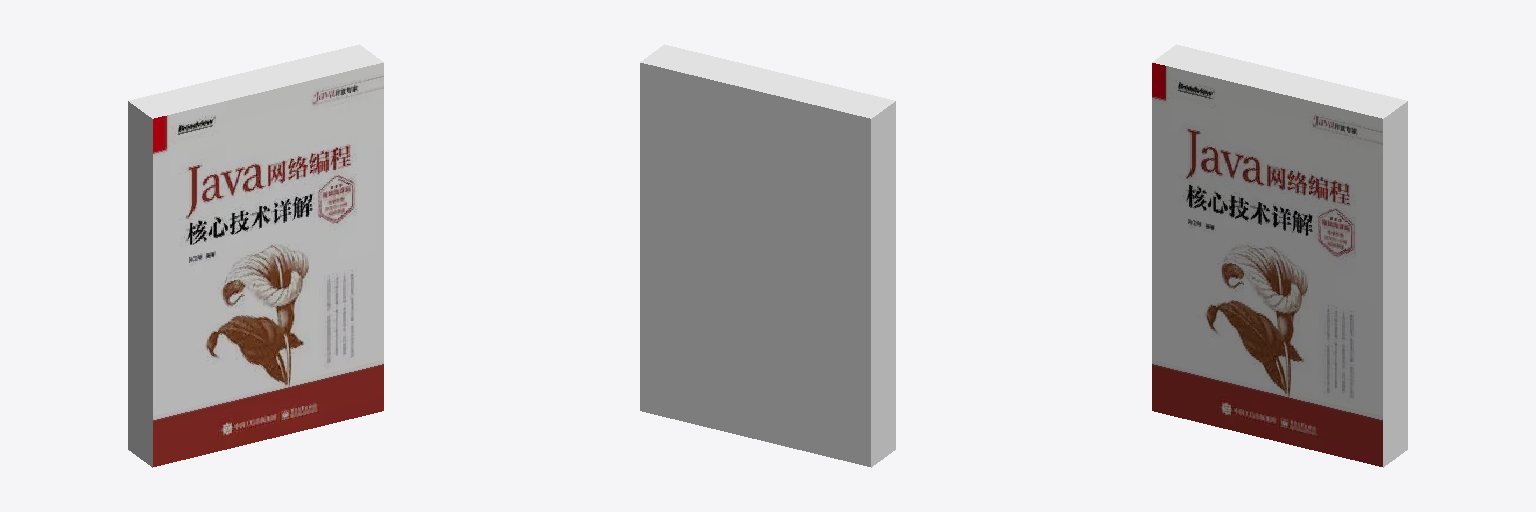
The picture shows the model from 3 angles: view 1: azimuth 30°, elevation 25°; view 2: azimuth 150°, elevation 25°; view 3: azimuth 330°, elevation 25°; orthographic projection.
Parts seen in each view (by area): view 1: 立方体.009; view 2: 立方体.009; view 3: 立方体.009.
Part boxes in pixels (left/top/right/bottom): 立方体.009: left=128, top=44, right=383, bottom=467; 立方体.009: left=640, top=44, right=895, bottom=467; 立方体.009: left=1152, top=44, right=1407, bottom=467.
Bounding box in the file's own units: 0.4312 × 0.6205 × 0.0792.
2 materials, 1 textured.